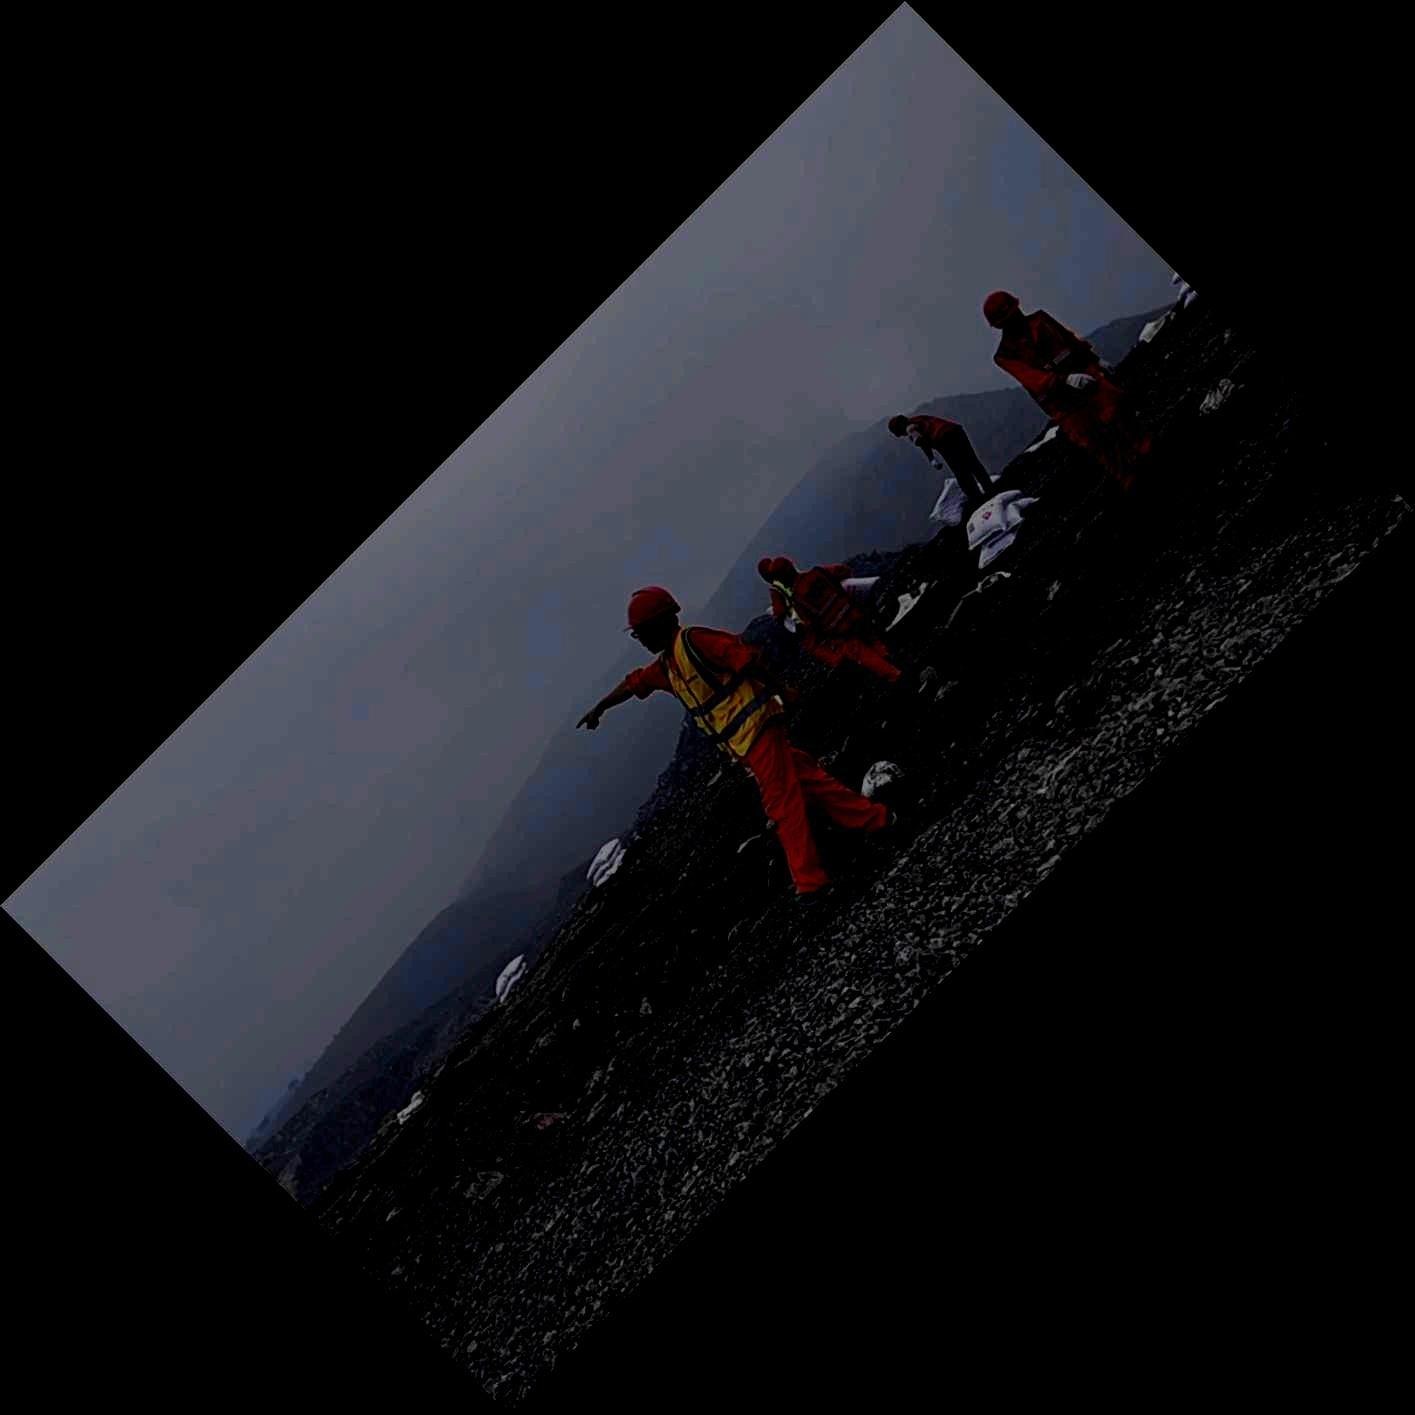helmet: (621, 584, 682, 654), (982, 289, 1024, 330), (768, 556, 800, 590), (888, 413, 911, 439), (757, 557, 776, 584)
